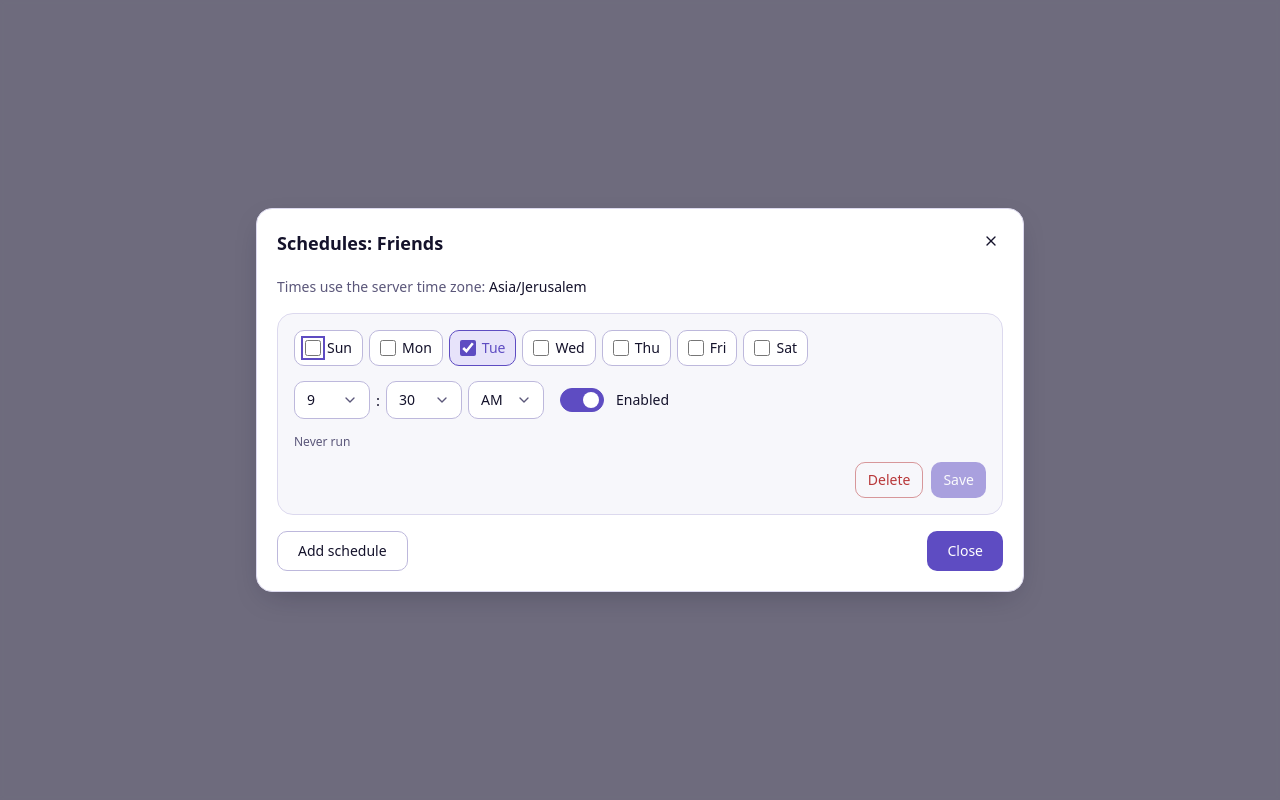
Scenario: SchedulesDialog › does not patch when all days are cleared
Click the checkbox labelled "Tue" at (468, 348), box [460,340,476,356]
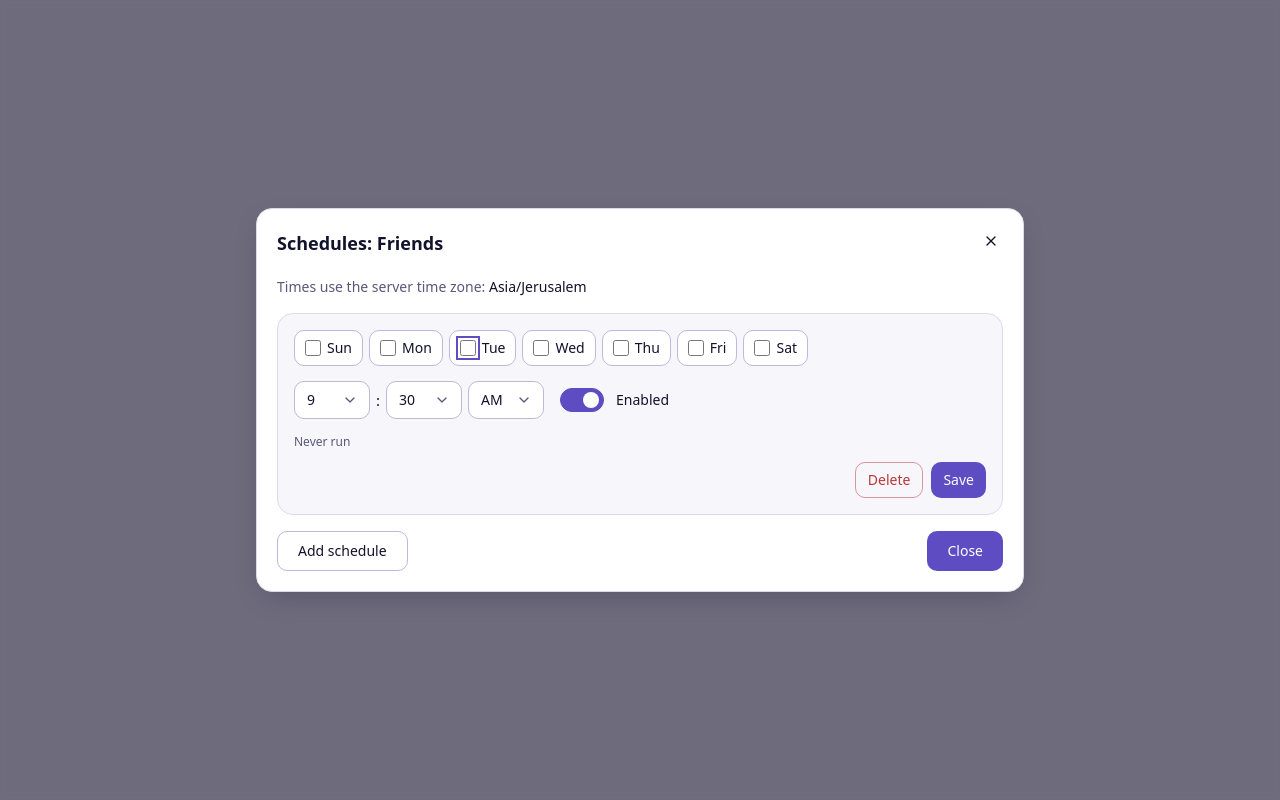
Click the button with aria-label "Save schedule at 9:30 AM" at (959, 480), box [931,462,986,498]
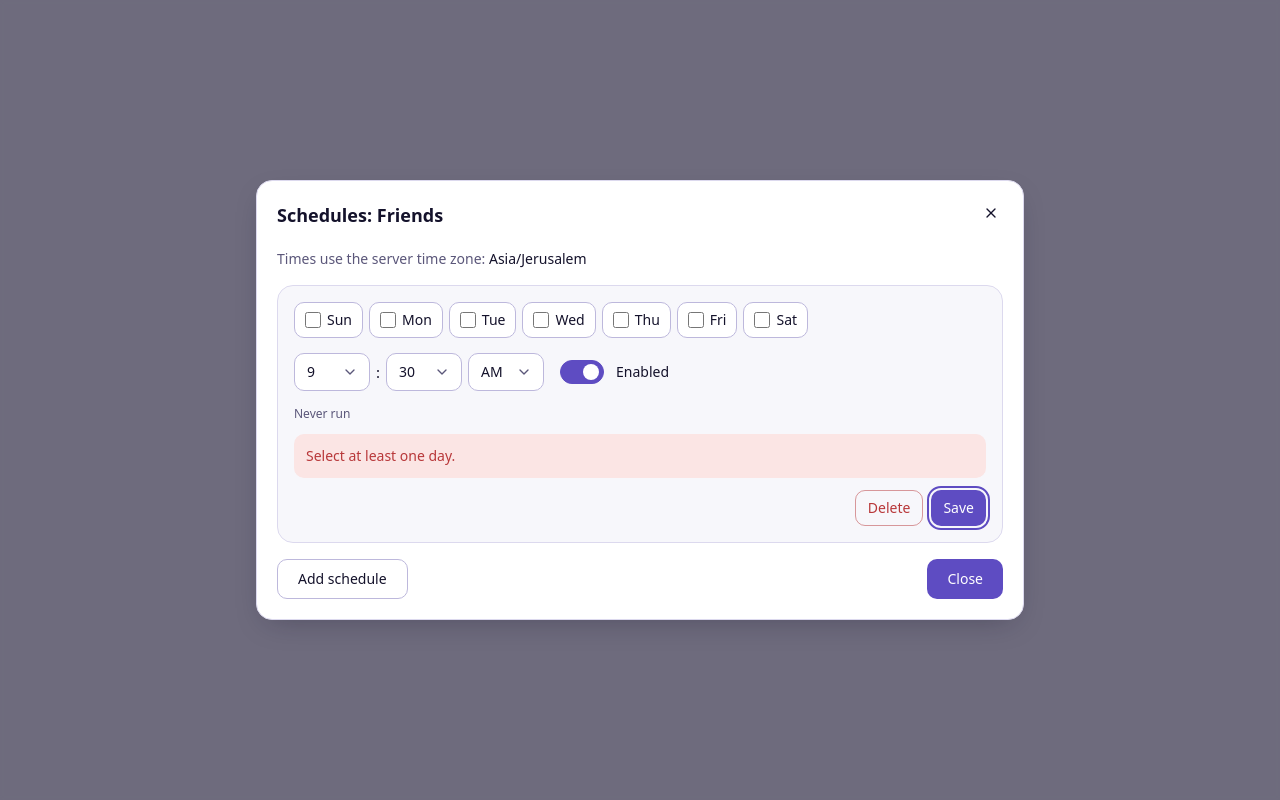
Now the message "Select at least one day." is shown, box [294,434,986,478]
